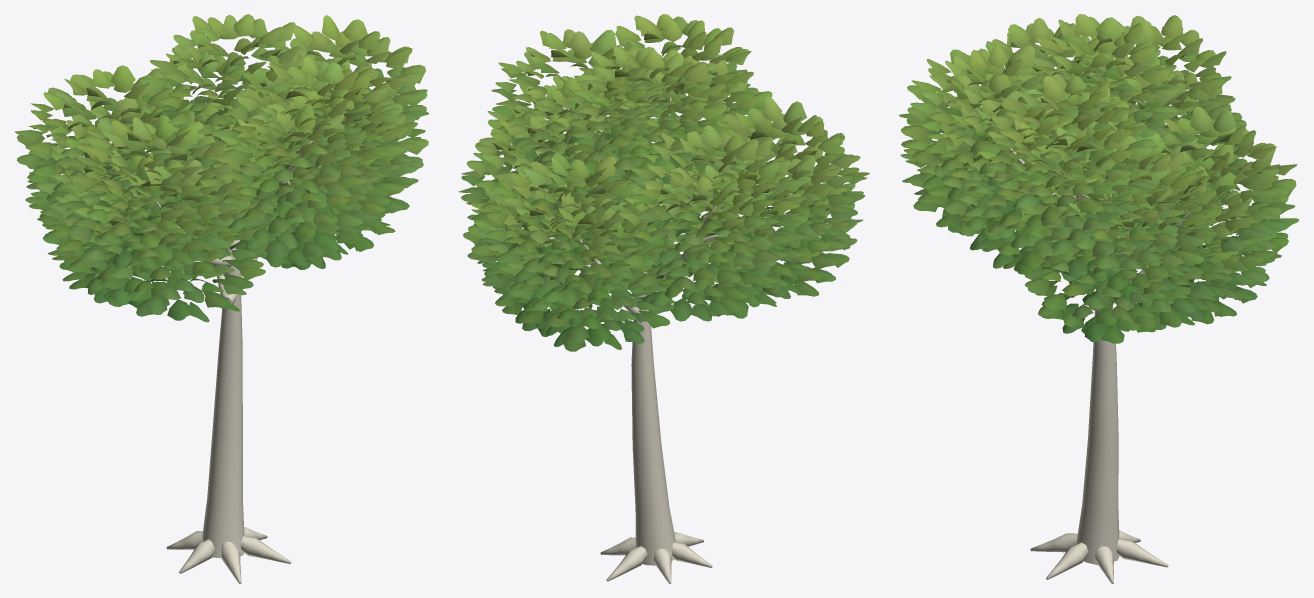
Rendered from birch.glb.
3 renders of one model, left to right at view 1: azimuth 30°, elevation 25°; view 2: azimuth 150°, elevation 25°; view 3: azimuth 270°, elevation 25°, orthographic. The views are drawn at different scales.
Parts seen in each view (by area): view 1: leaf, bark; view 2: leaf, bark; view 3: leaf, bark.
Part boxes in pixels (left/top/right/bottom): leaf: left=14, top=14, right=429, bottom=322; bark: left=114, top=118, right=324, bottom=583; leaf: left=458, top=14, right=869, bottom=351; bark: left=556, top=97, right=767, bottom=583; leaf: left=899, top=14, right=1299, bottom=343; bark: left=990, top=101, right=1197, bottom=583.
Size of the model in its own units: 3.79 by 5.2 by 3.53.
